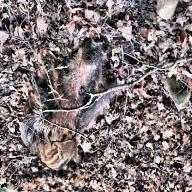boar: (24, 41, 138, 182)
